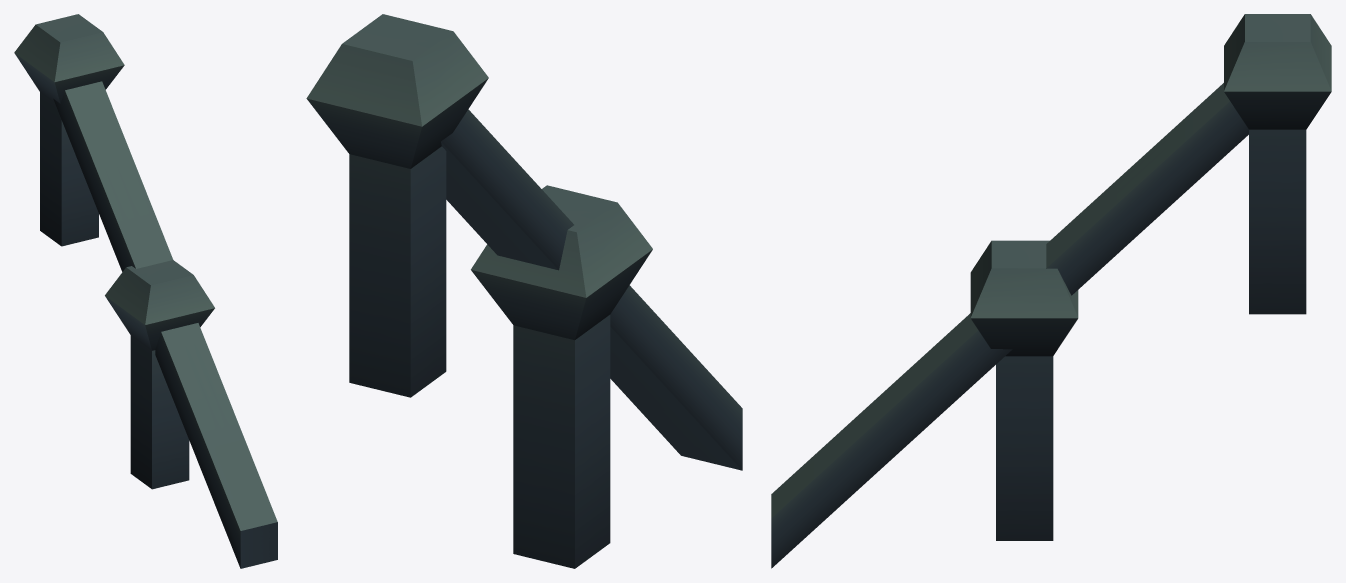
The model's file is handrail1_angle_tile_LOD_setup.fbx.
3 renders of one model, left to right at view 1: azimuth 30°, elevation 25°; view 2: azimuth 150°, elevation 25°; view 3: azimuth 270°, elevation 25°, orthographic. The views are drawn at different scales.
Visible parts, largest first — view 1: handrail1_angle_tile_LOD0; view 2: handrail1_angle_tile_LOD0; view 3: handrail1_angle_tile_LOD0.
Part boxes in pixels (x1,y1,x2,y2): handrail1_angle_tile_LOD0: [14, 14, 277, 568]; handrail1_angle_tile_LOD0: [306, 14, 742, 568]; handrail1_angle_tile_LOD0: [771, 14, 1331, 568].
Size of what is drawn, in the model's own units: 22.67 by 115 by 111.
